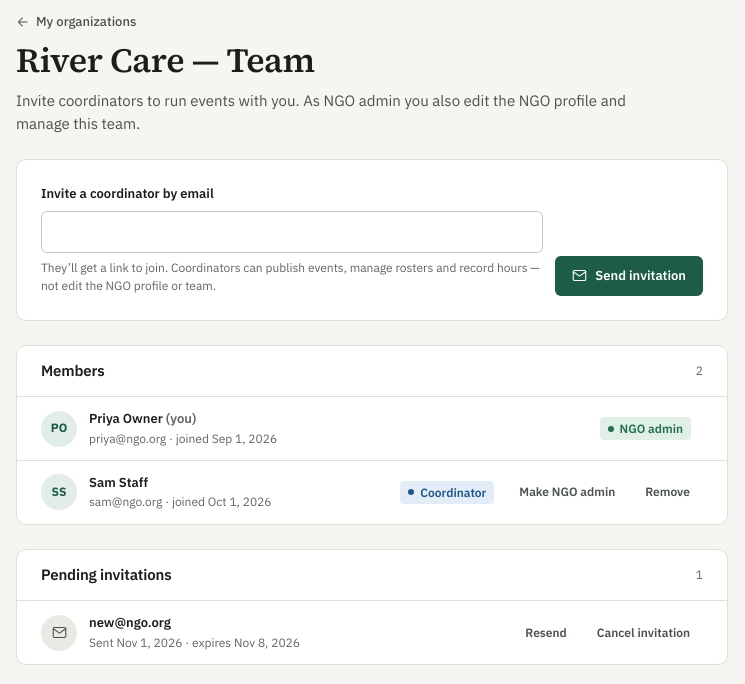
Scenario: Team page — NGO admin › invites a coordinator by email
The image size is (745, 684).
In the field labelled "Invite a coordinator by email": (292, 232) [41,211,543,253], type "ravi@ngo.org"
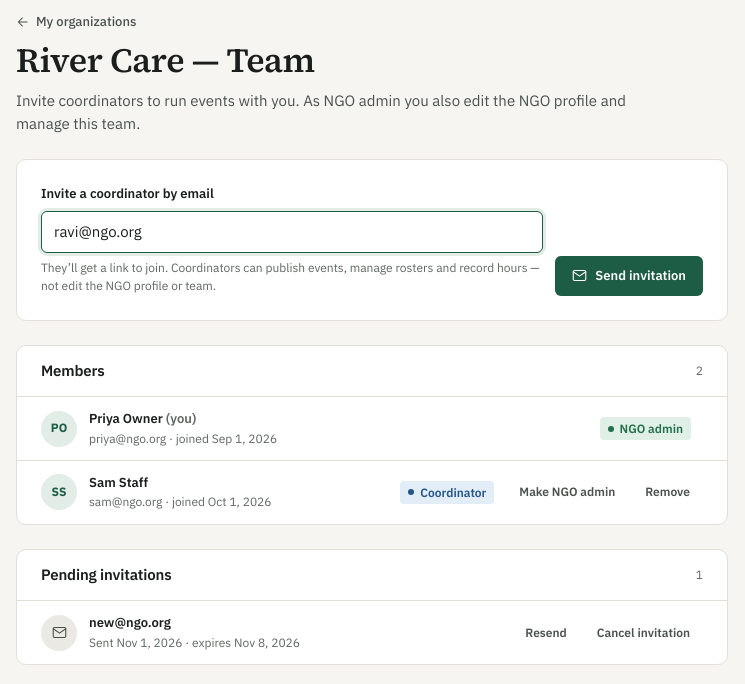
Click the button "Send invitation": (629, 276) [555,256,703,296]
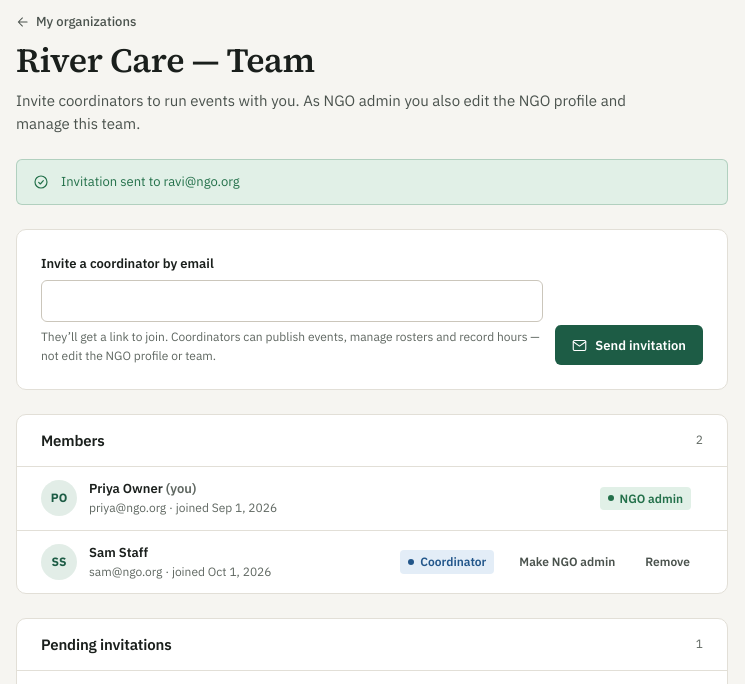
expect the text "Invitation sent to ravi@ngo.org" is shown: met, box [61,173,240,190]
